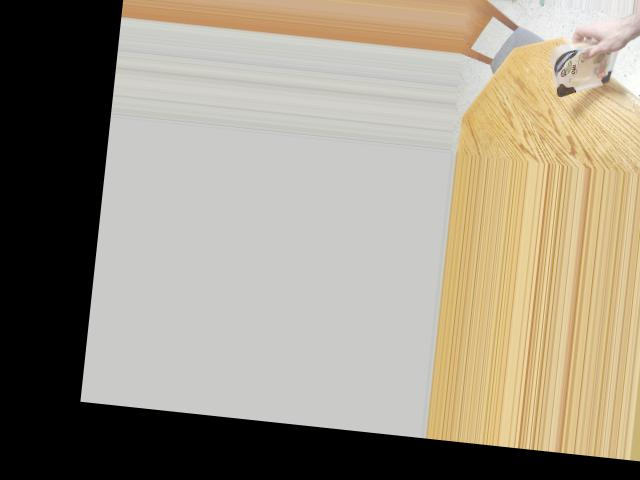cheese: (550, 40, 625, 98)
